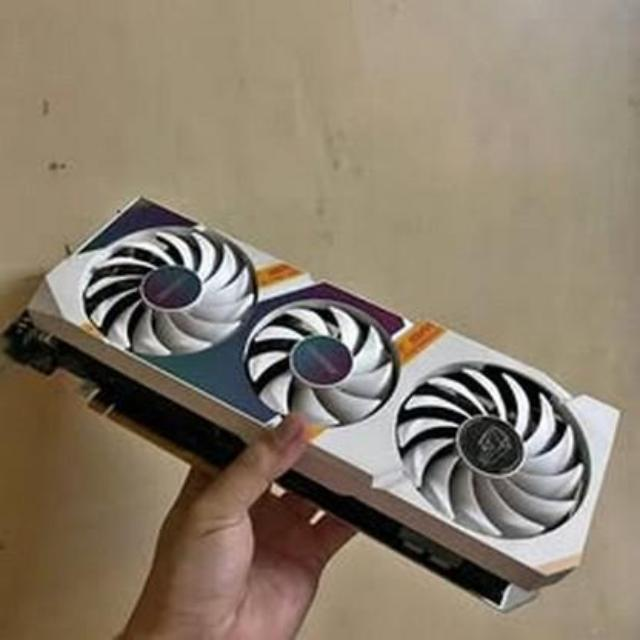GPU: (4, 186, 636, 618)
